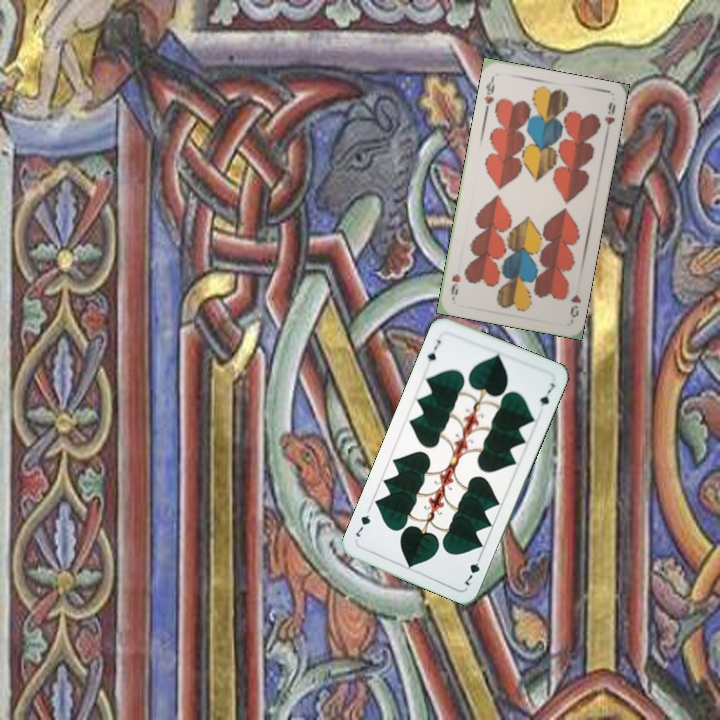G7: (460, 550, 484, 588), (423, 335, 443, 364)
H9: (480, 74, 497, 107), (566, 290, 583, 320)
